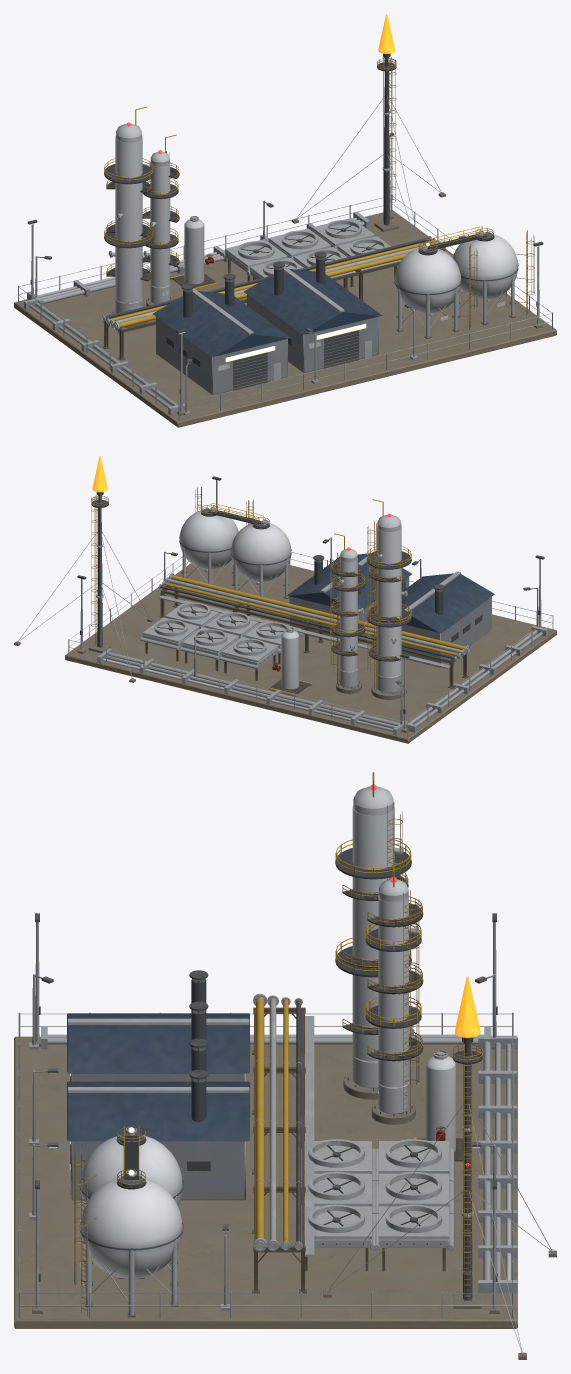
The picture shows the model from 3 angles, top to bottom: view 1: azimuth 30°, elevation 25°; view 2: azimuth 150°, elevation 25°; view 3: azimuth 270°, elevation 25°; orthographic projection. The views are drawn at different scales.
Parts seen in each view (by area): view 1: ag25_Body, ag25_Dressing, GasLights; view 2: ag25_Body, ag25_Dressing; view 3: ag25_Body, ag25_Dressing, Flame_Core.
Boxes of the visible parts, box(x1,y1,x2,y2) form: ag25_Body: box(14, 53, 556, 427); ag25_Dressing: box(18, 136, 552, 420); GasLights: box(225, 228, 486, 362); ag25_Body: box(14, 476, 556, 743); ag25_Dressing: box(68, 503, 553, 737); ag25_Body: box(14, 772, 556, 1359); ag25_Dressing: box(18, 805, 517, 1318); Flame_Core: box(454, 976, 480, 1037).
Size of the model in its own units: 11.4 by 5.5 by 8.08.
13 materials, 1 textured.
